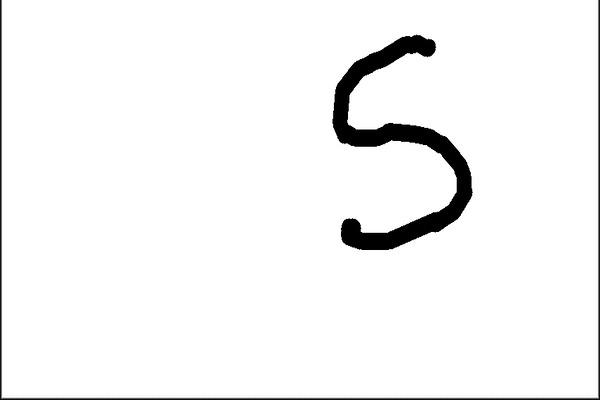S: (326, 31, 475, 254)
